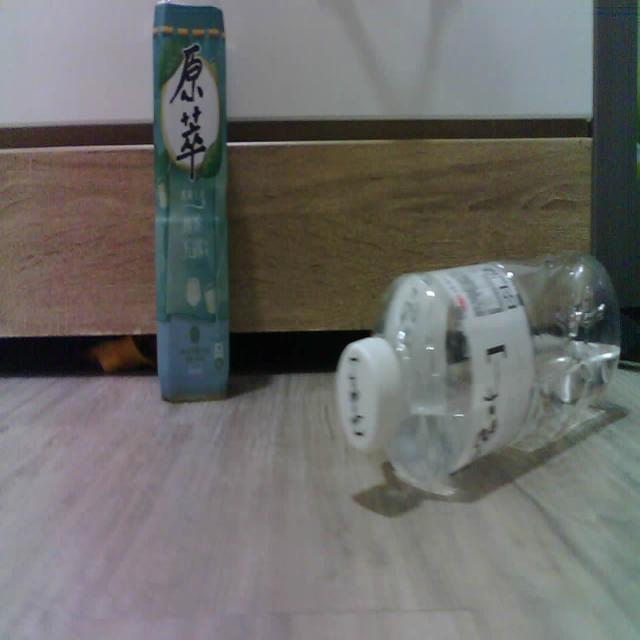bottle: (336, 252, 620, 492), (152, 0, 230, 401)
